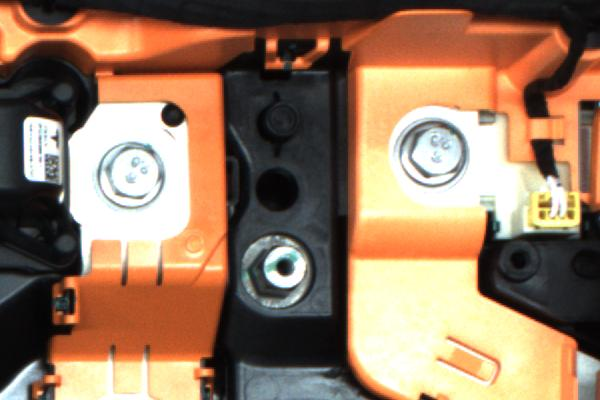nut_b: (81, 134, 180, 217), (389, 112, 474, 194)
